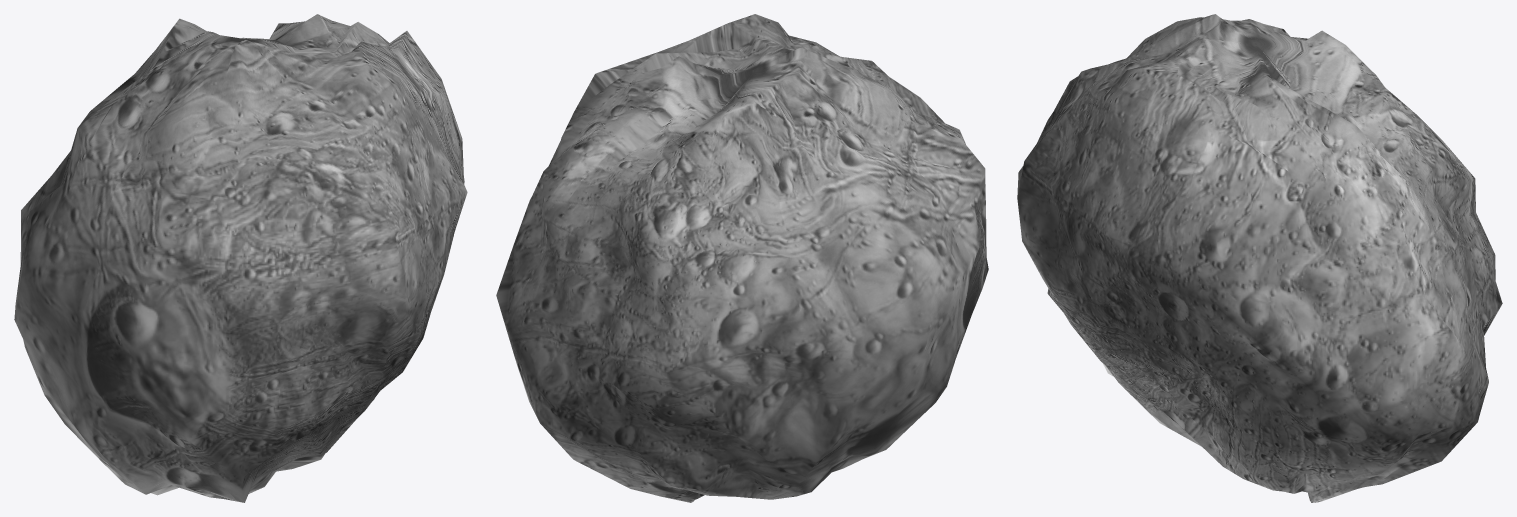
File: Asteroid-1.FBX
3 renders of one model, left to right at view 1: azimuth 30°, elevation 25°; view 2: azimuth 150°, elevation 25°; view 3: azimuth 270°, elevation 25°, orthographic. The views are drawn at different scales.
Visible parts, largest first — view 1: Sphere001; view 2: Sphere001; view 3: Sphere001.
Part boxes in pixels (box(x1,y1,x2,y2)): Sphere001: box(14, 14, 467, 502); Sphere001: box(496, 14, 988, 502); Sphere001: box(1017, 14, 1502, 502).
Bounding box in the file's own units: 5.33 × 5.78 × 5.55.
